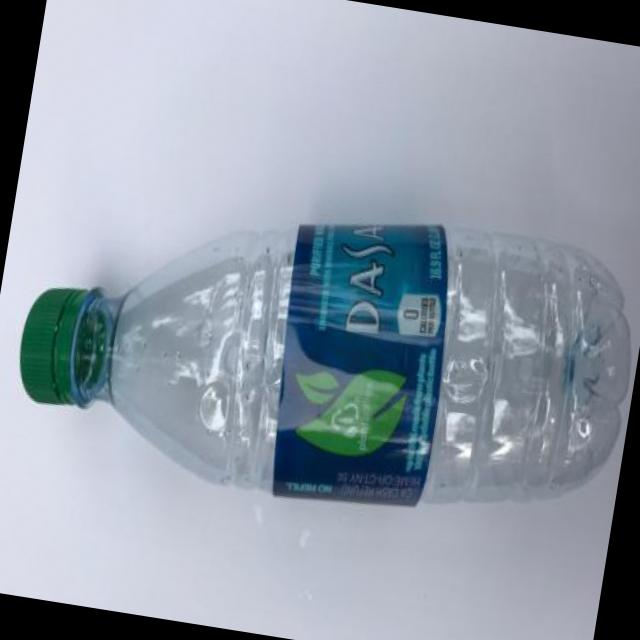Recycle: (1, 197, 640, 553)
